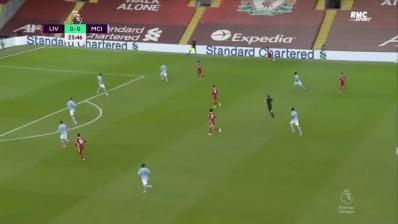football: (223, 53, 228, 58)
player: (135, 162, 154, 195), (205, 107, 223, 138), (288, 105, 304, 137), (56, 120, 72, 151), (73, 132, 88, 163), (64, 97, 80, 125), (208, 83, 224, 110), (95, 72, 110, 98), (292, 71, 308, 93), (264, 46, 278, 66), (194, 58, 206, 81), (336, 71, 348, 94), (159, 63, 170, 83)
referee: (262, 92, 278, 122)
